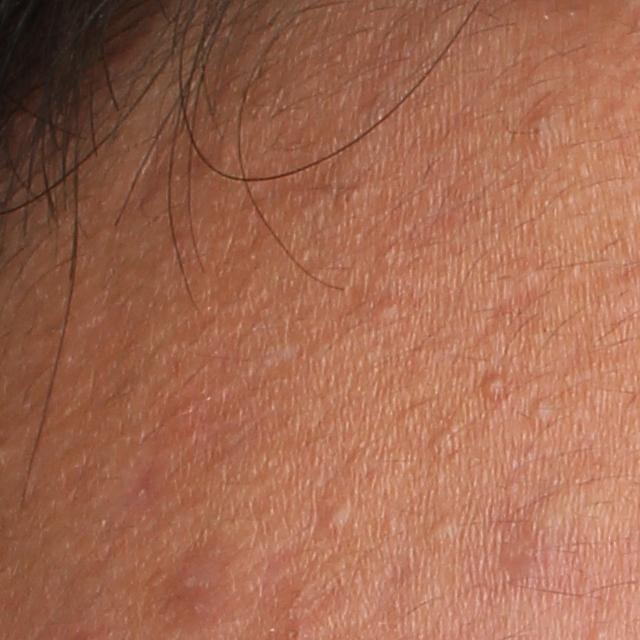comedo: (319, 499, 354, 538), (426, 516, 455, 545), (481, 371, 507, 399), (432, 428, 460, 453), (526, 396, 553, 421), (527, 116, 549, 146), (376, 299, 400, 319)
